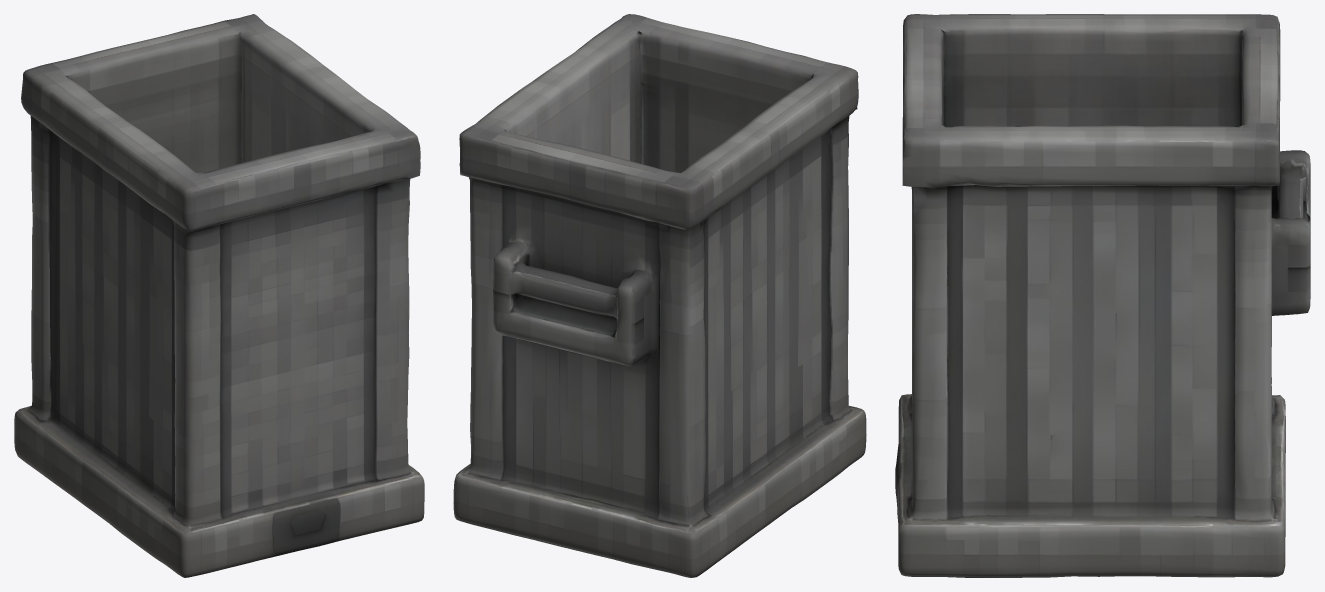
The model's file is wooden+crate+3d+model.fbx.
3 renders of one model, left to right at view 1: azimuth 30°, elevation 25°; view 2: azimuth 150°, elevation 25°; view 3: azimuth 270°, elevation 25°, orthographic. The views are drawn at different scales.
Parts seen in each view (by area): view 1: tripo_node_b6f929fc; view 2: tripo_node_b6f929fc; view 3: tripo_node_b6f929fc.
Part boxes in pixels (x1,y1,x2,y2): tripo_node_b6f929fc: (14,14,424,577); tripo_node_b6f929fc: (453,14,866,577); tripo_node_b6f929fc: (895,14,1310,577).
Size of the model in its own units: 65.9 by 99.98 by 86.22.
